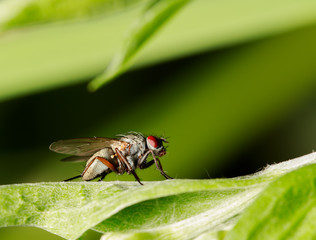green bottles flies: (40, 112, 181, 192)
